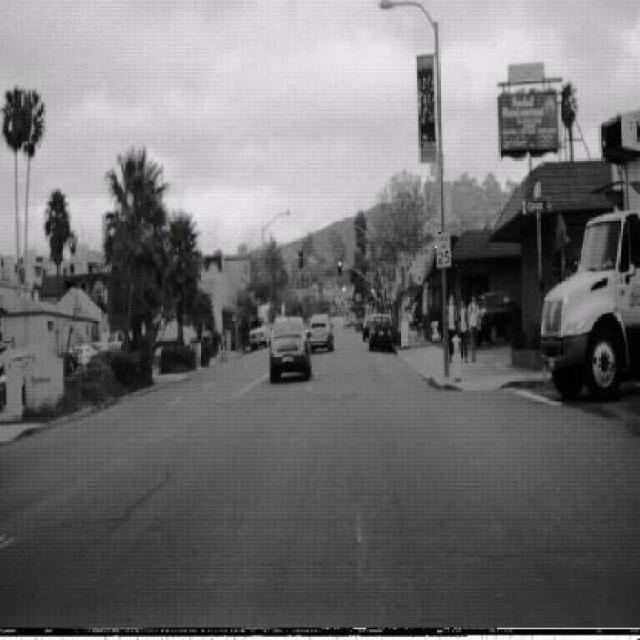speedLimit25: (436, 231, 452, 268)
